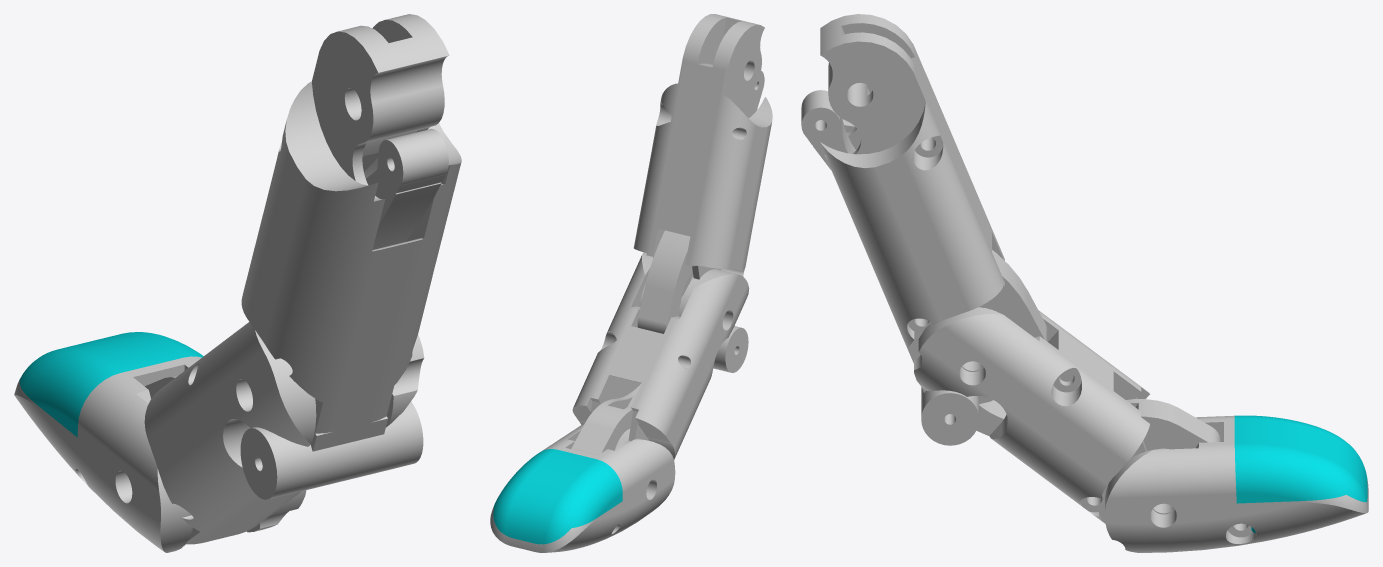
Rendered from mnp-finger.glb.
The picture shows the model from 3 angles, left to right: view 1: azimuth 30°, elevation 25°; view 2: azimuth 150°, elevation 25°; view 3: azimuth 270°, elevation 25°; orthographic projection. The views are drawn at different scales.
Parts seen in each view (by area): view 1: Body6, Body1.001, Body5, Body1, Body1.002, Body1.004, Body11, Body3; view 2: Body6, Body1.001, Body1.002, Body5, Body1, Body11, Body1.004, Body1.003, Body3; view 3: Body5, Body11, Body3, Body1.002, Body1.004, Body6, Body1.003, Body1.001.
Part boxes in pixels (x1,y1,x2,y2): Body6: (240,25,413,499); Body1.001: (144,322,316,544); Body5: (342,14,461,481); Body1: (14,365,192,552); Body1.002: (19,332,203,437); Body1.004: (372,128,448,249); Body11: (221,334,424,538); Body3: (152,356,306,532); Body6: (674,19,772,372); Body1.001: (615,269,749,459); Body1.002: (493,449,622,544); Body5: (633,14,737,306); Body1: (523,438,675,552); Body11: (572,252,653,450); Body1.004: (637,71,764,333); Body1.003: (571,383,641,455); Body3: (490,424,583,548); Body5: (820,30,1004,445); Body11: (914,307,1174,523); Body3: (1105,431,1368,552); Body1.002: (1234,415,1367,533); Body1.004: (801,90,1047,341); Body6: (820,14,1006,388); Body1.003: (976,399,1220,449); Body1.001: (1038,310,1173,450).
Bounding box in the file's own units: 0.017 × 0.0721 × 0.0723.
